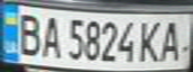2: (100, 18, 121, 63)
4: (118, 17, 139, 63)
5: (63, 15, 84, 61)
8: (81, 16, 103, 63)
A: (157, 17, 187, 63), (36, 12, 63, 59)
B: (12, 9, 45, 57)
K: (136, 17, 163, 63)
